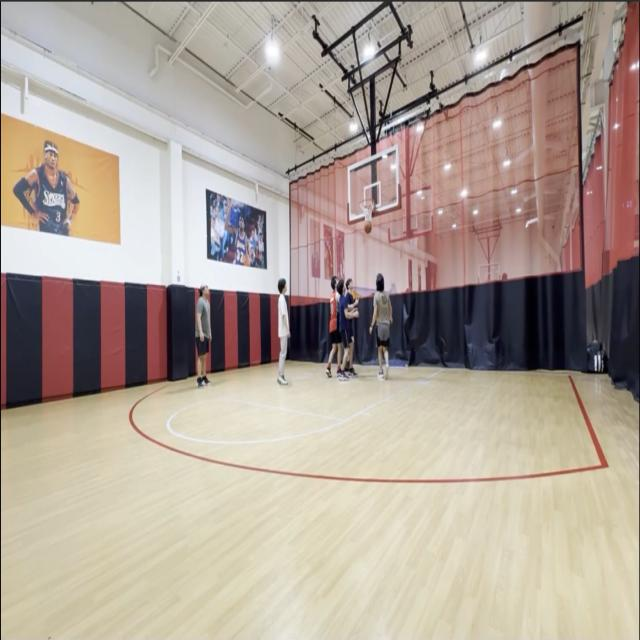Basketball: (364, 220, 372, 234)
Basketball Rim: (359, 198, 374, 220)
